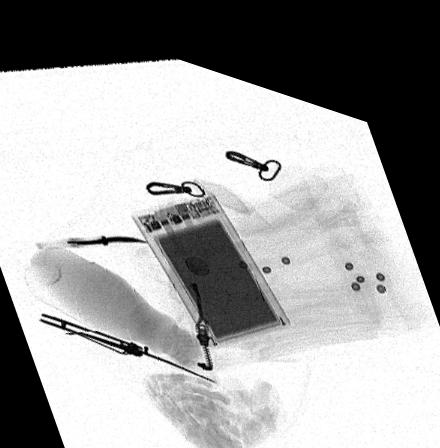Knife: (38, 310, 215, 370)
Powerbank: (128, 178, 292, 334)
Scissors: (31, 224, 147, 252)
